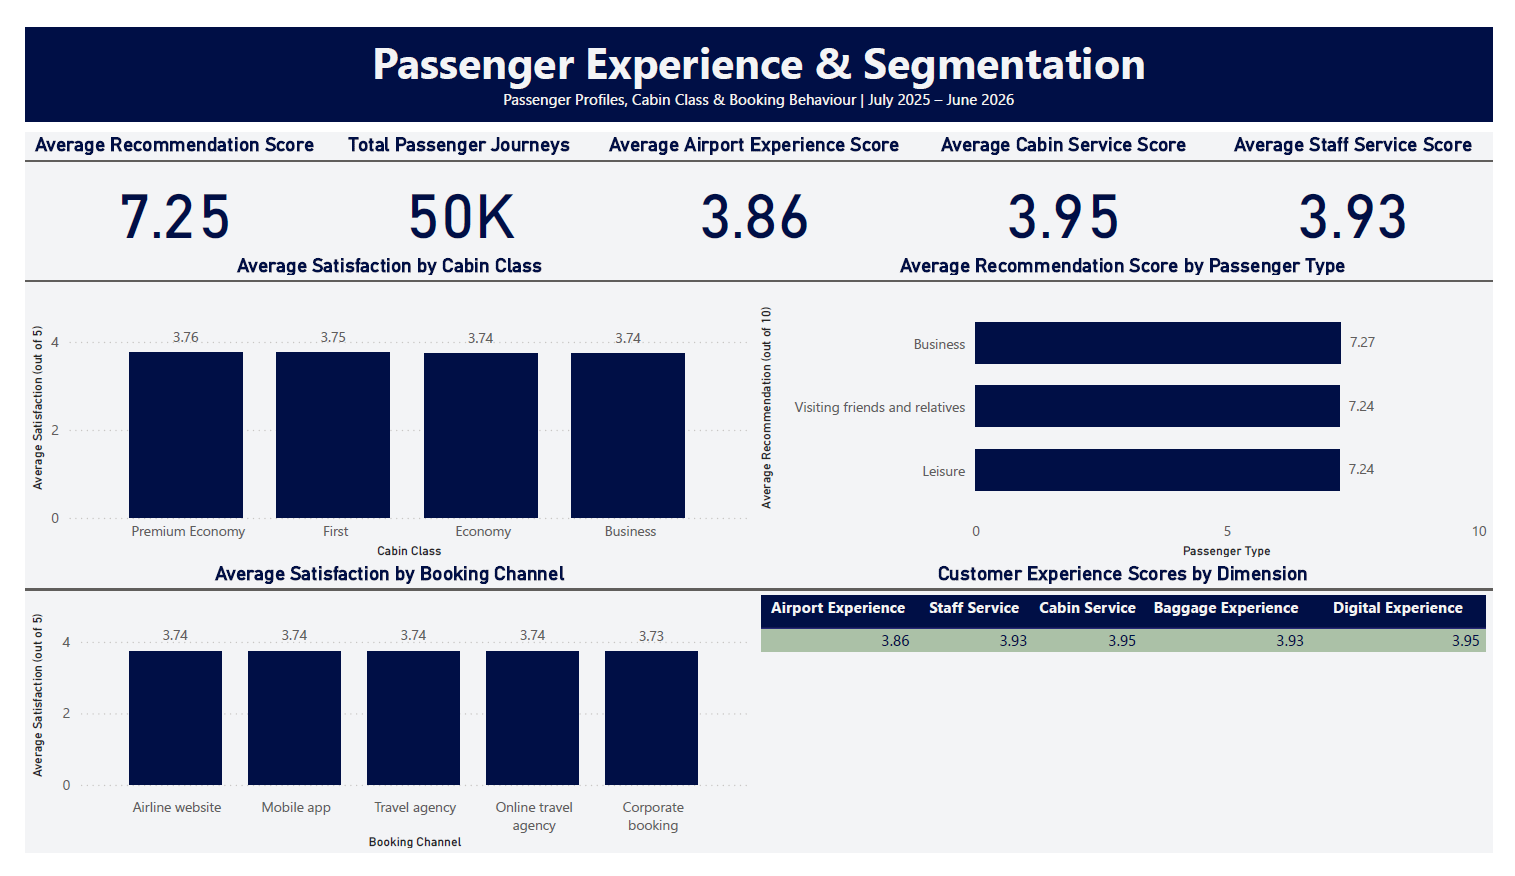

This screenshot's page, from the dashboard's own definition file:
{"tool":"powerbi","page":{"name":"Passenger Experience","canvas":[1280,720],"ordinal":3},"visuals":[{"type":"textbox","box":[0,0,1280,82.4],"z":0},{"type":"card","title":"Average Recommendation Score","fields":{"Values":["fact_customer_journey.Average Recommendation Score"]},"box":[0,92.2,260.6,104.8],"z":1000},{"type":"card","title":"Average Staff Service Score","fields":{"Values":["fact_customer_journey.Average Staff Service Score"]},"box":[1038.1,92.2,241.9,105.2],"z":2000},{"type":"card","title":"Total Passenger Journeys","fields":{"Values":["dim_date.Total Journeys"]},"box":[260.3,92.2,237.6,105.2],"z":3000},{"type":"card","title":"Average Cabin Service Score","fields":{"Values":["fact_customer_journey.Average Cabin Service Score"]},"box":[774.5,92.2,263.6,105.2],"z":4000},{"type":"clusteredColumnChart","title":"Average Satisfaction by Cabin Class","fields":{"Y":["Avg(fact_customer_journey.overall_satisfaction_score)"],"Category":["fact_customer_journey.cabin_class"]},"box":[0,197.4,635.7,269],"z":5000},{"type":"clusteredBarChart","title":"Average Recommendation Score by Passenger Type","fields":{"Category":["fact_customer_journey.passenger_type"],"Y":["Avg(fact_customer_journey.recommendation_score)"]},"box":[635.7,197.4,644.3,269],"z":6000},{"type":"clusteredColumnChart","title":"Average Satisfaction by Booking Channel","fields":{"Category":["fact_customer_journey.booking_channel"],"Y":["Avg(fact_customer_journey.overall_satisfaction_score)"]},"box":[0,466.4,635.7,253.8],"z":7000},{"type":"card","title":"Average Airport Experience Score","fields":{"Values":["fact_customer_journey.Average Airport Experience Score"]},"box":[497.9,92.2,276.6,105.2],"z":8000},{"type":"tableEx","title":"Customer Experience Scores by Dimension","fields":{"Values":["fact_customer_journey.Average Airport Experience Score","fact_customer_journey.Average Staff Service Score","fact_customer_journey.Average Cabin Service Score","Avg(fact_customer_journey.baggage_experience_score)","Avg(fact_customer_journey.digital_experience_score)"]},"box":[635.7,466.4,644.3,253.8],"z":9000}]}

Visuals, with their boxes in screenshot pixels (x1, y1, x2, y2), scaled from the page's 1280x720 canvas onto the 1515x876 screenshot:
textbox: box(0, 0, 1514, 100)
"Average Recommendation Score" card: box(0, 112, 308, 240)
"Average Staff Service Score" card: box(1229, 112, 1514, 240)
"Total Passenger Journeys" card: box(308, 112, 589, 240)
"Average Cabin Service Score" card: box(917, 112, 1229, 240)
"Average Satisfaction by Cabin Class" clusteredColumnChart: box(0, 240, 752, 567)
"Average Recommendation Score by Passenger Type" clusteredBarChart: box(752, 240, 1514, 567)
"Average Satisfaction by Booking Channel" clusteredColumnChart: box(0, 567, 752, 875)
"Average Airport Experience Score" card: box(589, 112, 917, 240)
"Customer Experience Scores by Dimension" tableEx: box(752, 567, 1514, 875)
